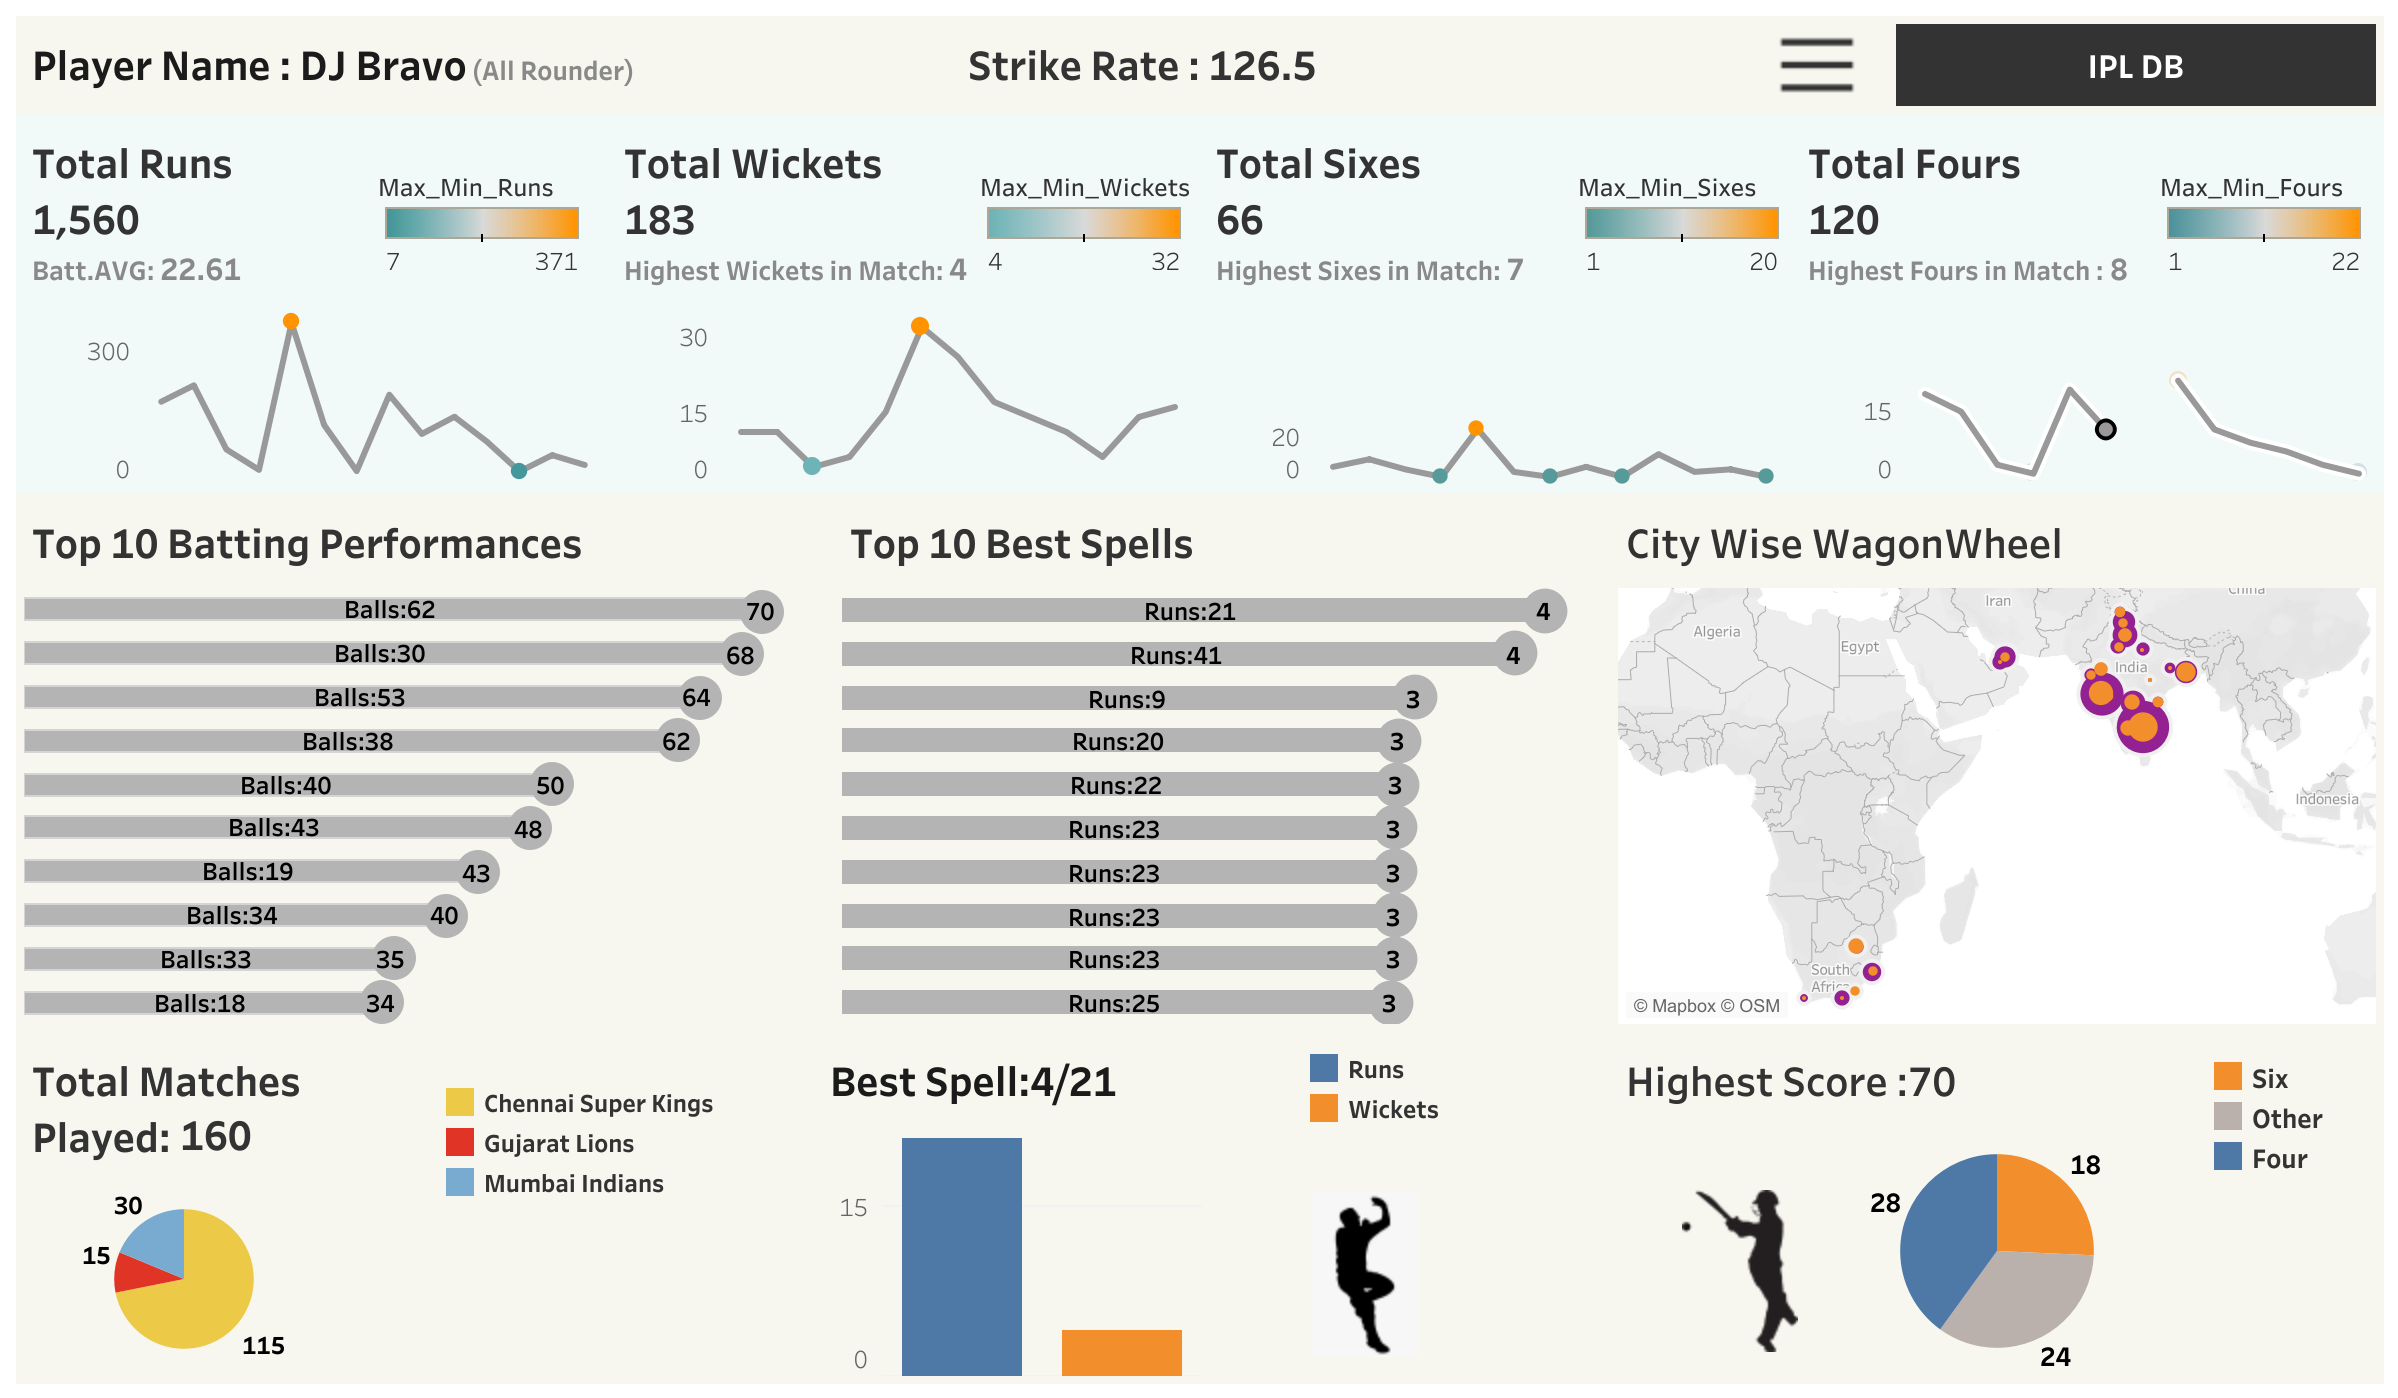

Layout of this report page (visuals, bound fields, positions):
{"tool":"tableau","page":{"name":"Dashboard 2","canvas":[1200,700],"ordinal":1},"visuals":[{"type":"worksheet","title":"Sheet 31","mark":"Automatic","box":[8,8,468,49]},{"type":"worksheet","title":"Sheet 32","mark":"Automatic","box":[476,8,468,49]},{"type":"dashboard-object","box":[944,8,248,49]},{"type":"parameter","param":"[Parameters].[Player Name Parameter]","box":[776,11,122,44]},{"type":"dashboard-object","box":[889,13,39,39]},{"type":"worksheet","title":"Sheet 18","mark":"Automatic","rows":["Calculation_351562295582830846","Calculation_351562296129667341"],"cols":["FULL_DT"],"box":[8,57,296,190]},{"type":"worksheet","title":"Sheet 18 (2)","mark":"Automatic","rows":["Calculation_351562295865307393","Calculation_351562296123699467"],"cols":["FULL_DT"],"box":[304,57,296,190]},{"type":"worksheet","title":"Sheet 18 (3)","mark":"Automatic","rows":["Calculation_351562295869260035","Calculation_351562296118407434"],"cols":["FULL_DT"],"box":[600,57,296,190]},{"type":"worksheet","title":"Sheet 18 (4)","mark":"Automatic","rows":["Calculation_351562295871168775","Calculation_351562296130879758"],"cols":["FULL_DT"],"box":[896,57,296,190]},{"type":"legend","title":"Sheet 18","param":"[federated.08m6qem0stqt2f11qyd540is1qm1].[usr:Calculation_351562296129667341:qk]","box":[189,80,105,55]},{"type":"legend","title":"Sheet 18 (2)","param":"[federated.08m6qem0stqt2f11qyd540is1qm1].[usr:Calculation_351562296123699467:qk]","box":[490,80,105,55]},{"type":"legend","title":"Sheet 18 (3)","param":"[federated.08m6qem0stqt2f11qyd540is1qm1].[usr:Calculation_351562296118407434:qk]","box":[789,80,105,55]},{"type":"legend","title":"Sheet 18 (4)","param":"[federated.08m6qem0stqt2f11qyd540is1qm1].[usr:Calculation_351562296130879758:qk]","box":[1080,80,105,55]},{"type":"worksheet","title":"Sheet 19","mark":"Automatic","rows":["MATCH_ID (Match!Fact)"],"cols":["Calculation_5906048749430382610","Calculation_5906048749430382610"],"box":[8,247,409,269]},{"type":"worksheet","title":"Sheet 24","mark":"Automatic","rows":["MATCH_ID (Match!Fact)"],"cols":["Calculation_5906048749455028249","Calculation_5906048749455028249"],"box":[417,247,388,269]},{"type":"worksheet","title":"Sheet 25","mark":"Automatic","box":[805,247,387,269]},{"type":"worksheet","title":"Sheet 27","mark":"Pie","box":[8,516,399,176]},{"type":"worksheet","title":"Sheet 26","mark":"Automatic","cols":["MATCH_ID (Match!Fact)","PLAYER_NAME (Player!Dim1)"],"box":[407,516,398,176]},{"type":"worksheet","title":"Sheet 21","mark":"Pie","box":[805,516,387,176]},{"type":"legend","title":"Sheet 26","param":"[federated.08m6qem0stqt2f11qyd540is1qm1].[:Measure Names]","box":[652,524,115,60]},{"type":"legend","title":"Sheet 21","param":"[federated.08m6qem0stqt2f11qyd540is1qm1].[none:Calculation_5906048749887819810:n","box":[1104,528,78,77]},{"type":"legend","title":"Sheet 27","param":"[federated.08m6qem0stqt2f11qyd540is1qm1].[none:Calculation_5906048749943316541:n","box":[220,541,165,135]},{"type":"worksheet","title":"Sheet 28","mark":"Automatic","box":[86,547,85,31]},{"type":"image","param":"Image/batsman-7874716_1280.png","box":[835,595,71,81]},{"type":"image","param":"Image/133-1332544_cricket-bowler-cricket-silhouette-hd-png-download.png","box":[647,596,72,83]}]}

Visuals, with their boxes in screenshot pixels (x1, y1, x2, y2), scaled from the page's 1200x700 canvas onto the 2398x1398 screenshot:
"Sheet 31" worksheet: 16 16 951 114
"Sheet 32" worksheet: 951 16 1886 114
dashboard-object: 1886 16 2382 114
parameter: 1551 22 1795 110
dashboard-object: 1777 26 1854 104
"Sheet 18" worksheet: 16 114 607 493
"Sheet 18 (2)" worksheet: 607 114 1199 493
"Sheet 18 (3)" worksheet: 1199 114 1791 493
"Sheet 18 (4)" worksheet: 1791 114 2382 493
"Sheet 18" legend: 378 160 588 270
"Sheet 18 (2)" legend: 979 160 1189 270
"Sheet 18 (3)" legend: 1577 160 1787 270
"Sheet 18 (4)" legend: 2158 160 2368 270
"Sheet 19" worksheet: 16 493 833 1031
"Sheet 24" worksheet: 833 493 1609 1031
"Sheet 25" worksheet: 1609 493 2382 1031
"Sheet 27" worksheet (Pie marks): 16 1031 813 1382
"Sheet 26" worksheet: 813 1031 1609 1382
"Sheet 21" worksheet (Pie marks): 1609 1031 2382 1382
"Sheet 26" legend: 1303 1047 1533 1166
"Sheet 21" legend: 2206 1054 2362 1208
"Sheet 27" legend: 440 1080 769 1350
"Sheet 28" worksheet: 172 1092 342 1154
image: 1669 1188 1810 1350
image: 1293 1190 1437 1356
